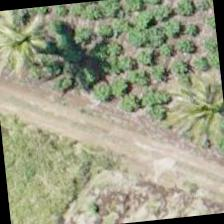Kelapa_Sawit: (149, 66, 223, 164), (0, 4, 74, 96)
